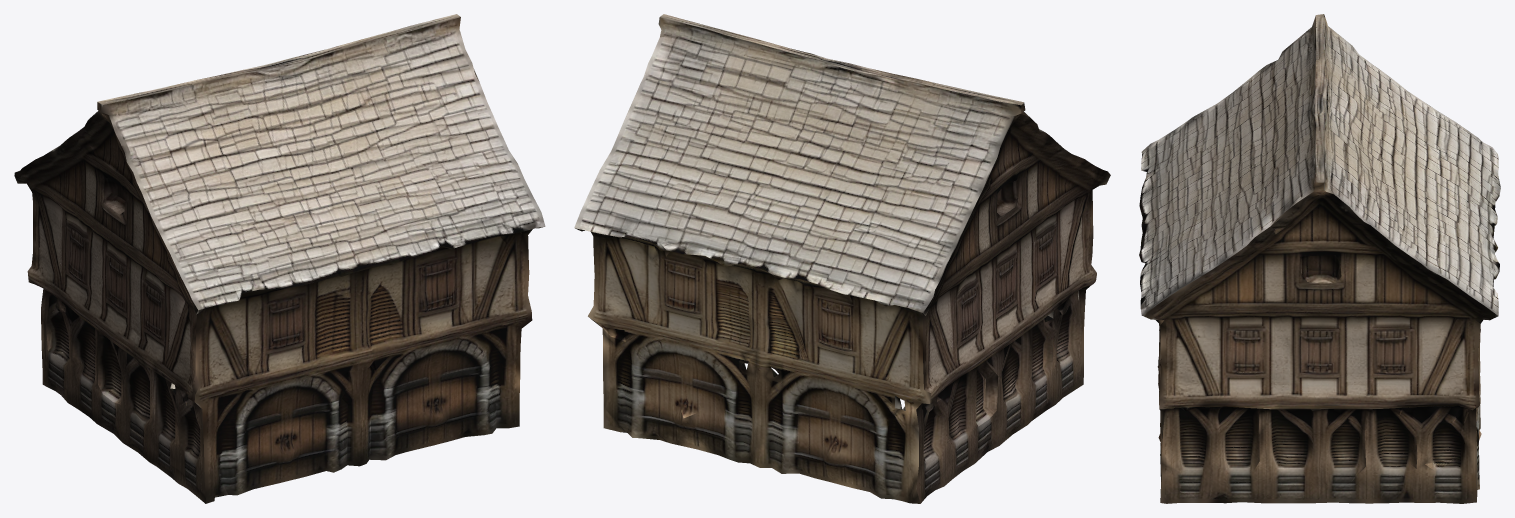
The model's file is warehouse.glb.
The picture shows the model from 3 angles, left to right: view 1: azimuth 30°, elevation 25°; view 2: azimuth 150°, elevation 25°; view 3: azimuth 270°, elevation 25°; orthographic projection. The views are drawn at different scales.
Parts seen in each view (by area): view 1: MedievalHouse; view 2: MedievalHouse; view 3: MedievalHouse.
Boxes of the visible parts, <box> form: MedievalHouse: <box>14,14,545,503</box>; MedievalHouse: <box>574,14,1110,503</box>; MedievalHouse: <box>1139,14,1500,503</box>.
Size of the model in its own units: 8.18 by 7.5 by 7.39.
Materials: 1 (1 with a texture image).
